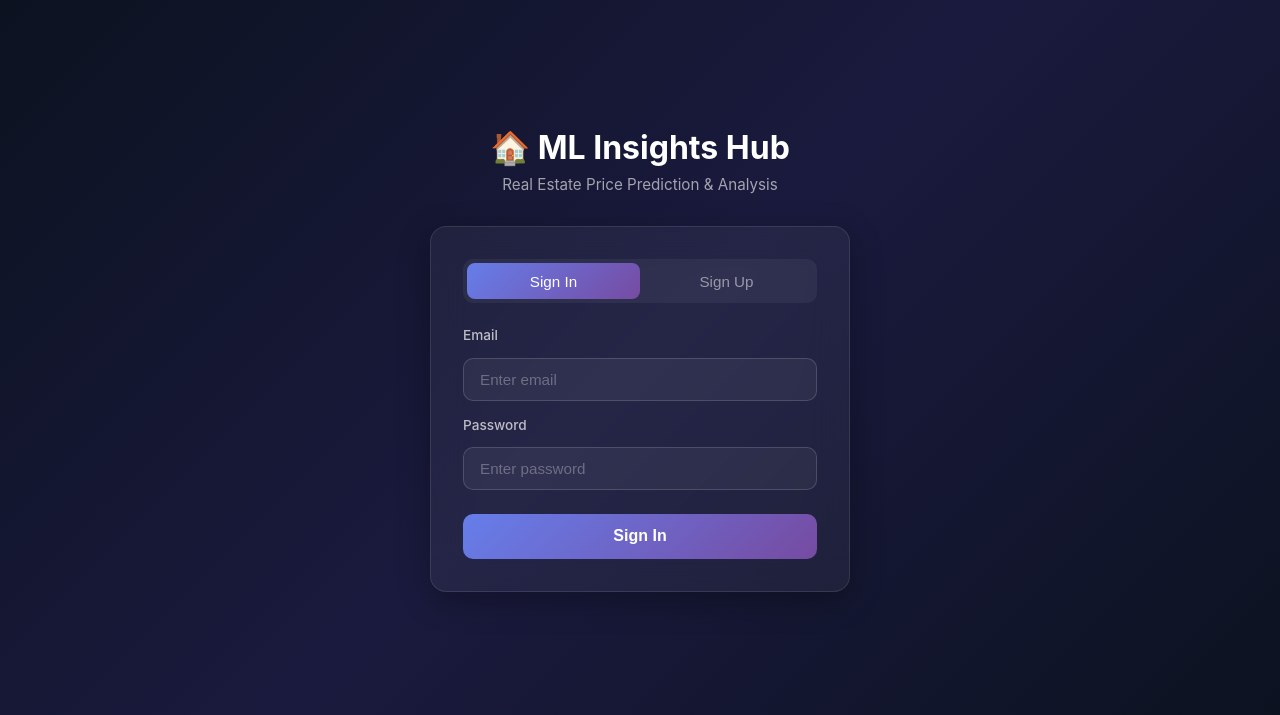
Test: AuthPage › switches to registration form when Sign Up tab is clicked
Click the button "Sign Up": {"x": 726, "y": 281} [640,263,813,299]
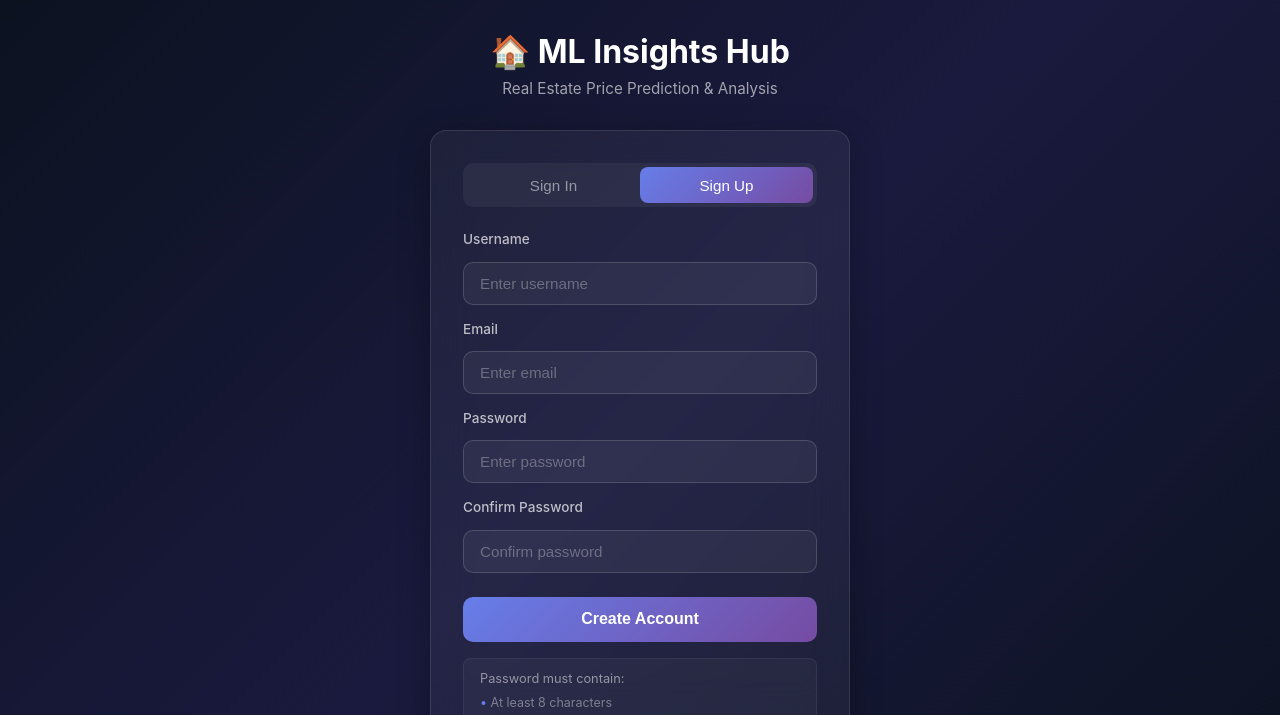
Expected: the field labelled "Username" is shown, [463,262,817,305]
Expected: the password field labelled "Confirm Password" is shown, [463,530,817,573]
Expected: the button "Create Account" is shown, [463,597,817,642]
